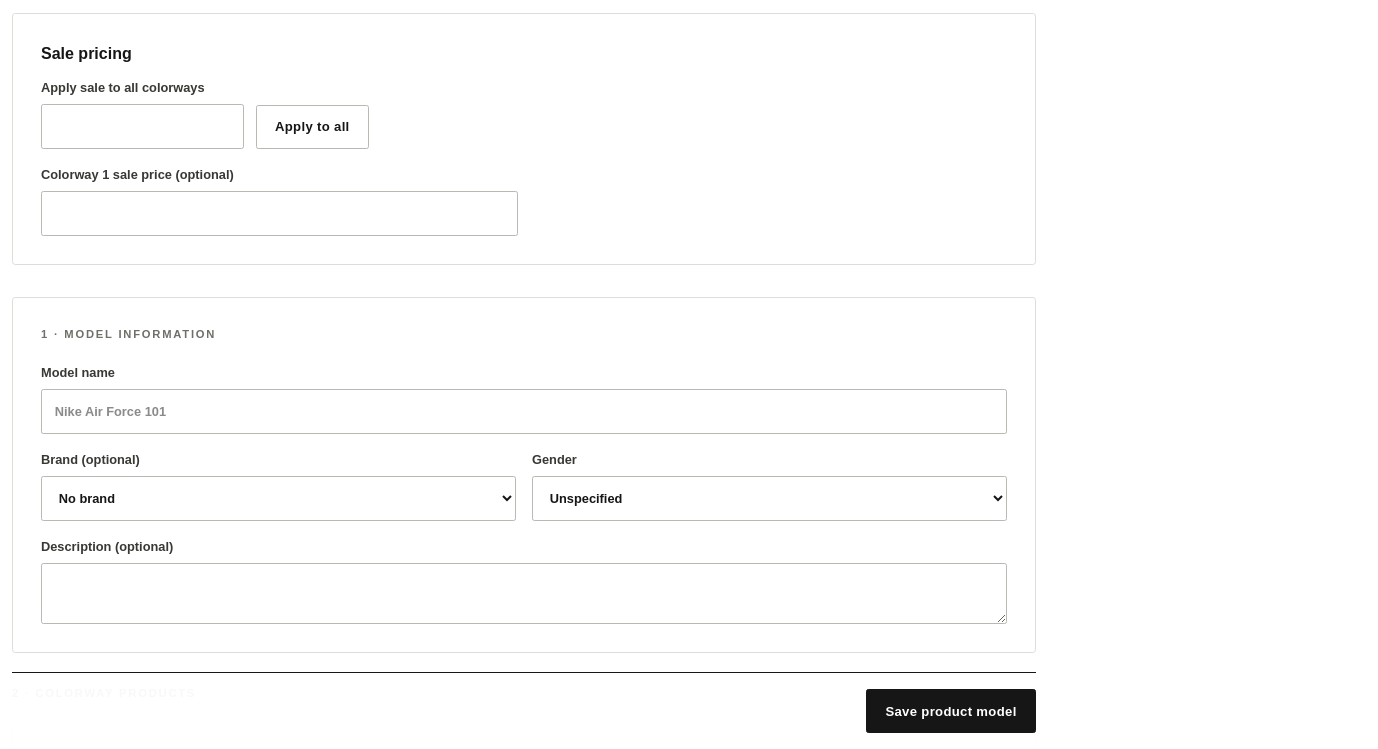
it: ProductForm blocking workflow › submits a product family without a brand and redirects after complete success
Step 1. Type "Runner" into the field with placeholder "Nike Air Force 101" → (524, 412), box left=41, top=389, right=1007, bottom=434
(page scrolled)
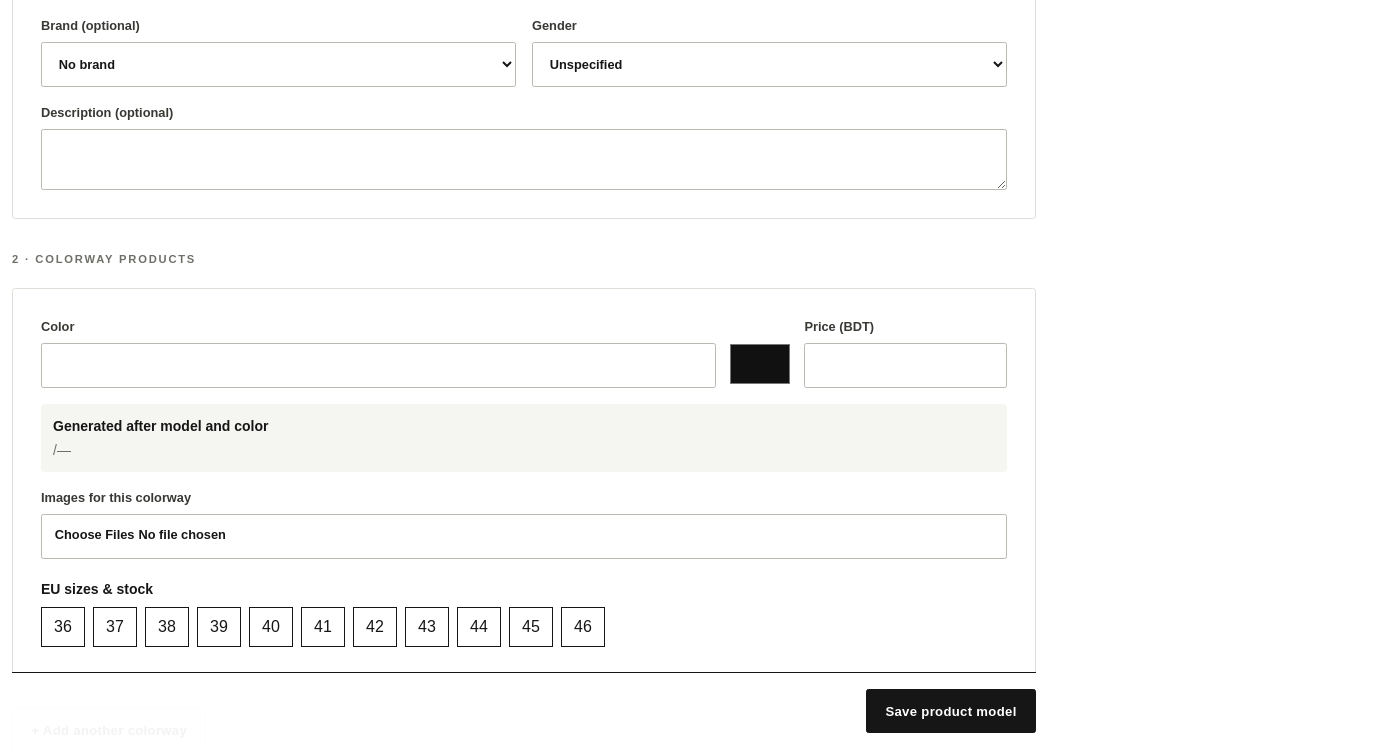
Step 2. Type "Black" into the field labelled "Color" → (379, 365), box left=41, top=343, right=716, bottom=388
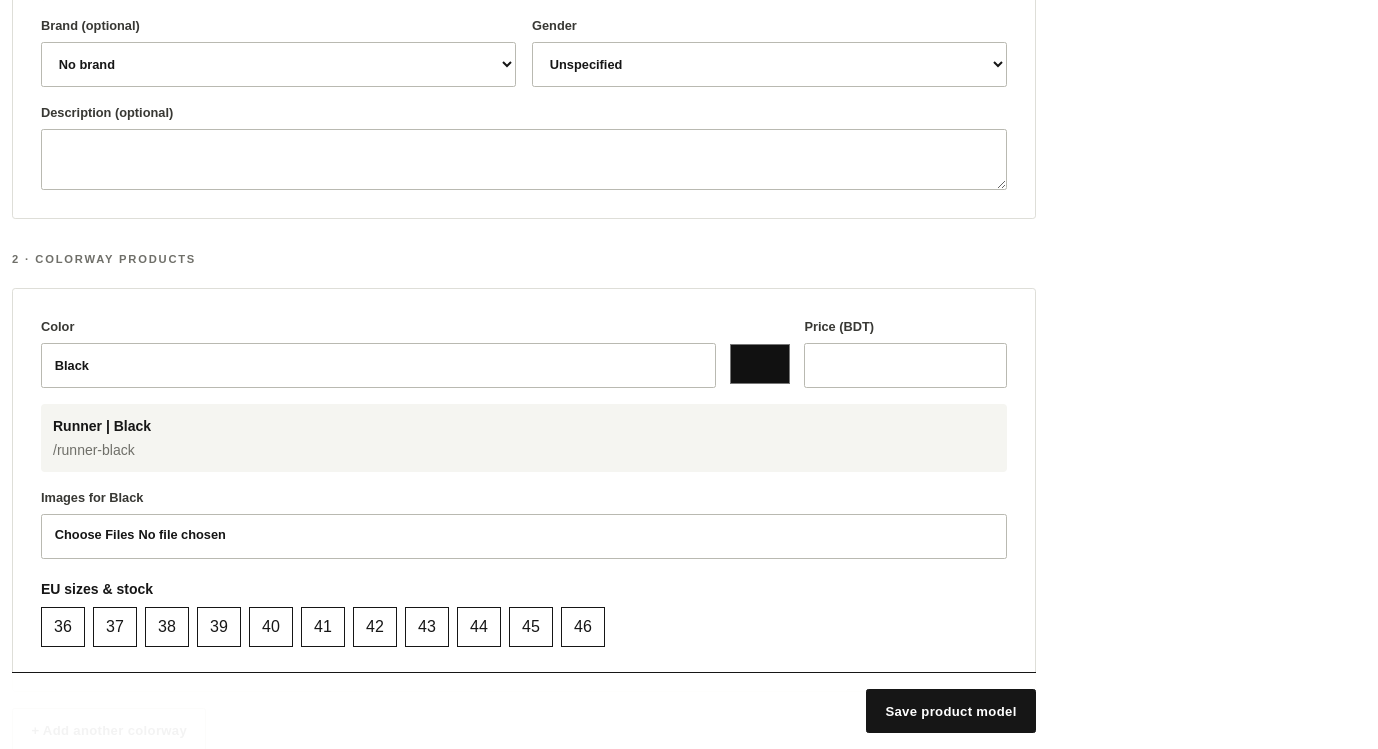
Step 3. Type "4990" into the number field labelled "Price (BDT)" → (906, 365), box left=804, top=343, right=1007, bottom=388
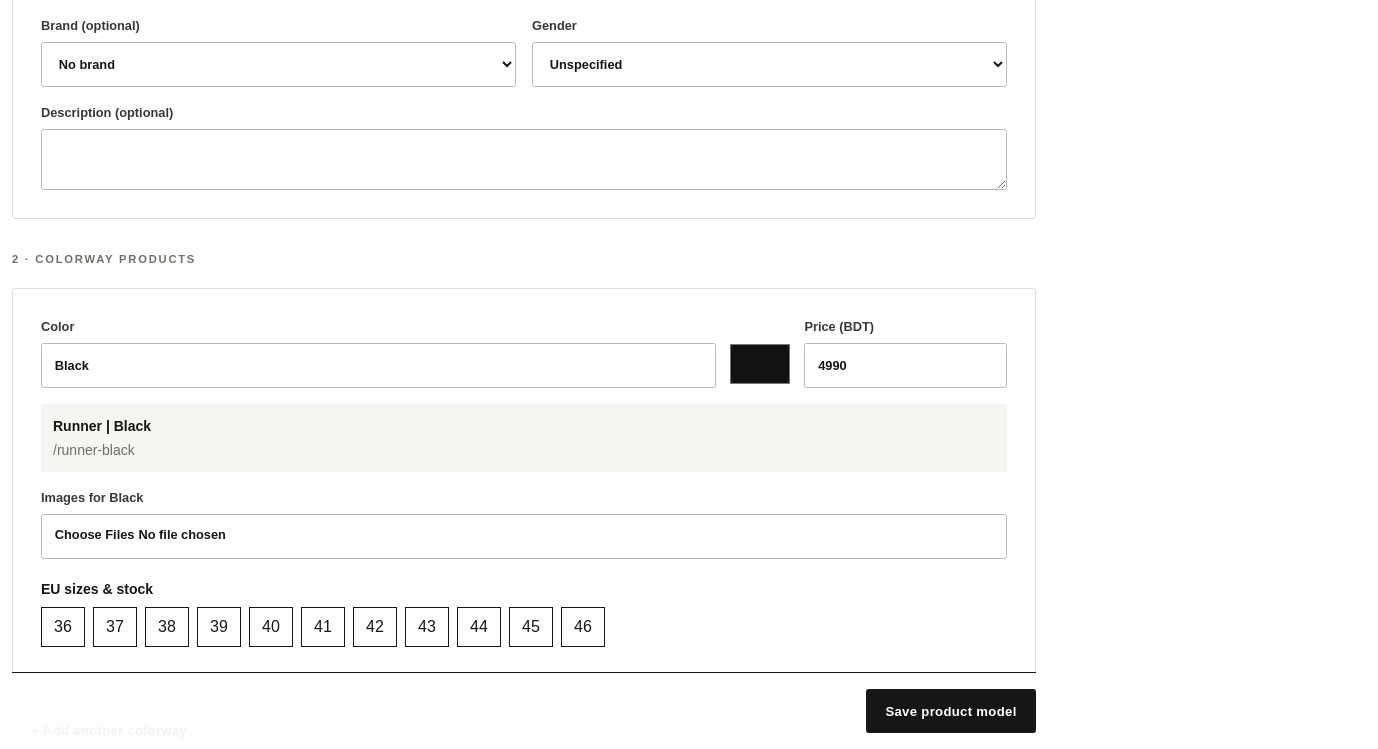
Step 4. Click the button "36" → (63, 627), box left=41, top=607, right=85, bottom=647
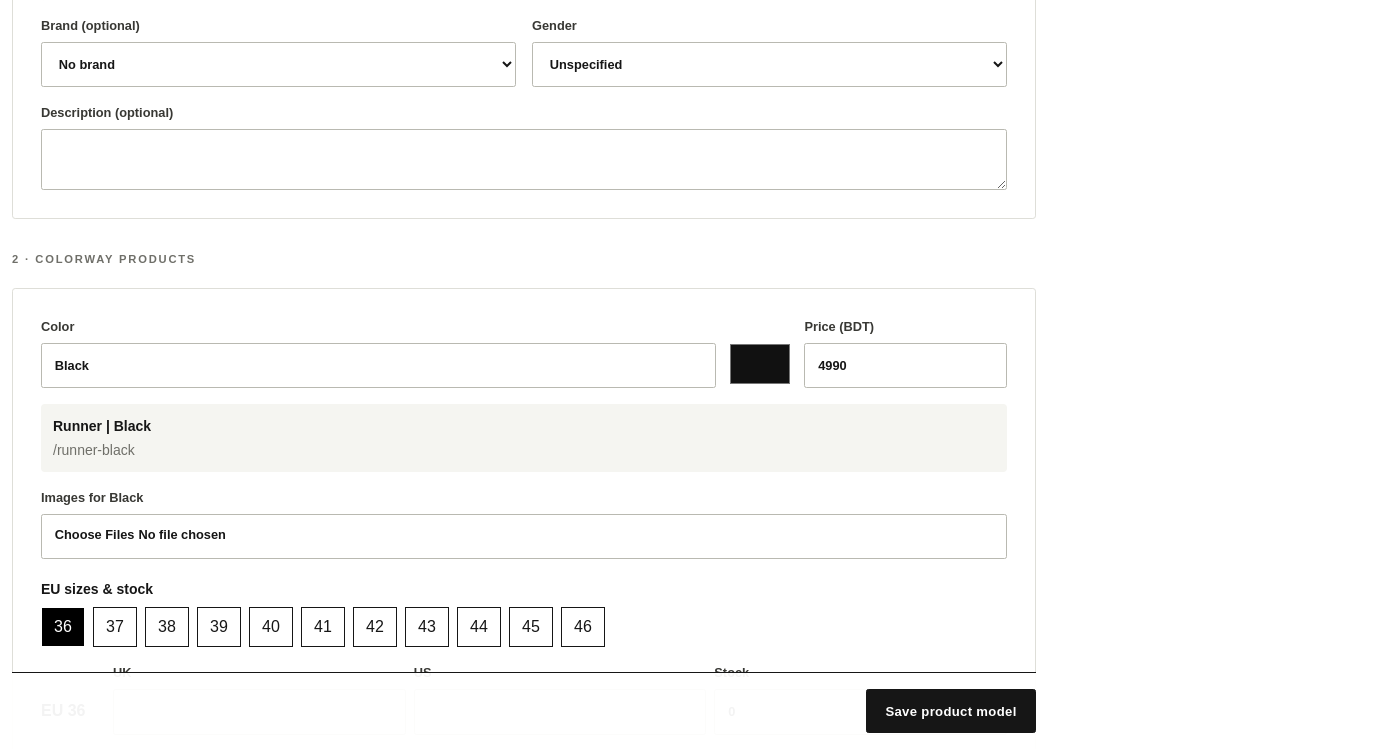
Step 5. Click the button "Save product model" → (951, 711), box left=866, top=689, right=1036, bottom=733
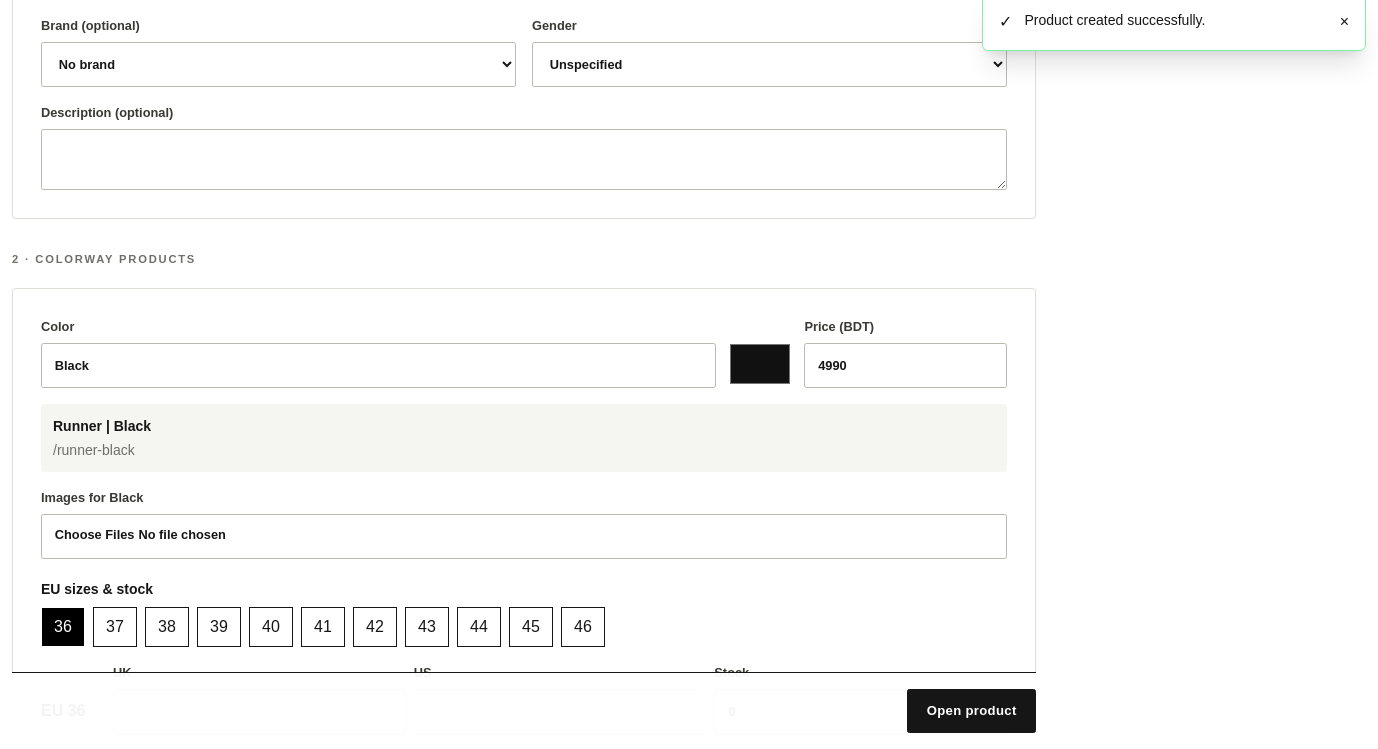
expect the text "Product created successfully." is shown: met, box left=1024, top=12, right=1205, bottom=28
